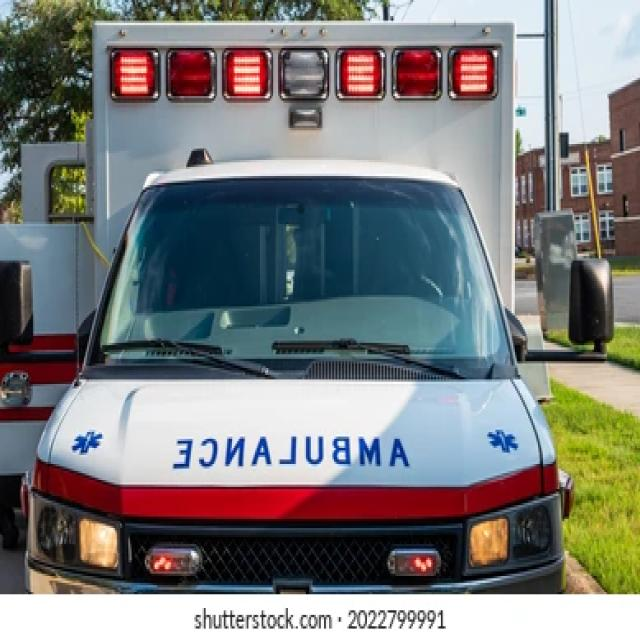Ambulance: (51, 10, 571, 640)
